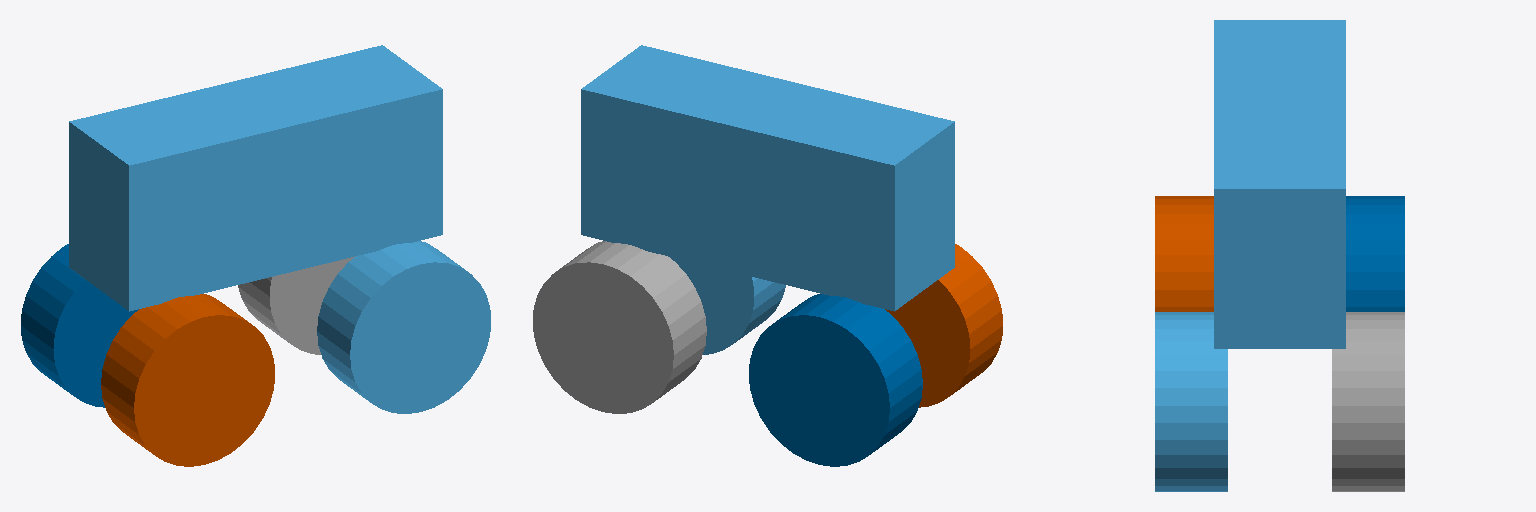
The robot description file, URDF, robot "agricobiot2":
<?xml version="1.0"?>
<!--
  Example URDF of the "agricobiot2" MVSim robot (class "ackermann_drivetrain"),
  as it could be used for Gazebo or real hardware: its <ros2_control> block
  names another hardware plugin, but MVSim binds its joints to the simulated
  ones by name. The robot actuators are the drivetrain ("traction_joint", at
  the rear axle center) and the steering rack ("steer_joint", the equivalent
  steering angle, at the front axle center), as in a bicycle model.
  Used by demo_ros2_control.launch.py with vehicle:=agricobiot2 robot_description:=urdf
-->
<robot name="agricobiot2">
  <link name="base_link"/>
  <link name="chassis_link">
    <visual><geometry><box size="0.9 0.3 0.4"/></geometry></visual>
  </link>
  <joint name="chassis_joint" type="fixed">
    <parent link="base_link"/><child link="chassis_link"/>
    <origin xyz="0.31 0 0.6" rpy="0 0 0"/>
  </joint>

  <!-- Bicycle model actuators -->
  <link name="traction"/>
  <joint name="traction_joint" type="continuous">
    <parent link="base_link"/><child link="traction"/>
    <origin xyz="0 0 0.203" rpy="0 0 0"/>
    <axis xyz="0 1 0"/>
  </joint>
  <link name="steer"/>
  <joint name="steer_joint" type="revolute">
    <parent link="base_link"/><child link="steer"/>
    <origin xyz="0.62 0 0.203" rpy="0 0 0"/>
    <axis xyz="0 0 1"/>
    <limit lower="-0.6109" upper="0.6109" effort="1000" velocity="1.5708"/>
  </joint>

  <!-- Wheels -->
  <link name="rl_wheel">
    <visual><origin rpy="1.5708 0 0"/><geometry><cylinder radius="0.203" length="0.164"/></geometry></visual>
  </link>
  <joint name="rl_wheel_joint" type="continuous">
    <parent link="base_link"/><child link="rl_wheel"/>
    <origin xyz="0 0.2 0.203" rpy="0 0 0"/>
    <axis xyz="0 1 0"/>
  </joint>
  <link name="rr_wheel">
    <visual><origin rpy="1.5708 0 0"/><geometry><cylinder radius="0.203" length="0.164"/></geometry></visual>
  </link>
  <joint name="rr_wheel_joint" type="continuous">
    <parent link="base_link"/><child link="rr_wheel"/>
    <origin xyz="0 -0.2 0.203" rpy="0 0 0"/>
    <axis xyz="0 1 0"/>
  </joint>
  <link name="fl_steer"/>
  <joint name="fl_steer_joint" type="revolute">
    <parent link="base_link"/><child link="fl_steer"/>
    <origin xyz="0.62 0.2 0.203" rpy="0 0 0"/>
    <axis xyz="0 0 1"/>
    <limit lower="-0.5190" upper="0.7354" effort="1000" velocity="1.5708"/>
  </joint>
  <link name="fl_wheel">
    <visual><origin rpy="1.5708 0 0"/><geometry><cylinder radius="0.203" length="0.164"/></geometry></visual>
  </link>
  <joint name="fl_wheel_joint" type="continuous">
    <parent link="fl_steer"/><child link="fl_wheel"/>
    <axis xyz="0 1 0"/>
  </joint>
  <link name="fr_steer"/>
  <joint name="fr_steer_joint" type="revolute">
    <parent link="base_link"/><child link="fr_steer"/>
    <origin xyz="0.62 -0.2 0.203" rpy="0 0 0"/>
    <axis xyz="0 0 1"/>
    <limit lower="-0.7354" upper="0.5190" effort="1000" velocity="1.5708"/>
  </joint>
  <link name="fr_wheel">
    <visual><origin rpy="1.5708 0 0"/><geometry><cylinder radius="0.203" length="0.164"/></geometry></visual>
  </link>
  <joint name="fr_wheel_joint" type="continuous">
    <parent link="fr_steer"/><child link="fr_wheel"/>
    <axis xyz="0 1 0"/>
  </joint>

  <link name="laser1"/>
  <joint name="laser1_joint" type="fixed">
    <parent link="base_link"/><child link="laser1"/>
    <origin xyz="0.8 0 0.4" rpy="0 0 0"/>
  </joint>

  <ros2_control name="GazeboSimSystem" type="system">
    <hardware>
      <plugin>gz_ros2_control/GazeboSimSystem</plugin>
    </hardware>
    <joint name="traction_joint">
      <command_interface name="velocity"/>
      <state_interface name="position"/>
      <state_interface name="velocity"/>
    </joint>
    <joint name="steer_joint">
      <command_interface name="position"/>
      <state_interface name="position"/>
    </joint>
    <!-- The wheels: state only, for joint_state_broadcaster -->
    <joint name="rl_wheel_joint"><state_interface name="position"/></joint>
    <joint name="rr_wheel_joint"><state_interface name="position"/></joint>
    <joint name="fl_wheel_joint"><state_interface name="position"/></joint>
    <joint name="fr_wheel_joint"><state_interface name="position"/></joint>
    <joint name="fl_steer_joint"><state_interface name="position"/></joint>
    <joint name="fr_steer_joint"><state_interface name="position"/></joint>
  </ros2_control>
</robot>

--- What the picture shows (computed from the rendered views, not written in the file) ---
The picture shows the robot from 3 angles, left to right: view 1: azimuth 30°, elevation 25°; view 2: azimuth 150°, elevation 25°; view 3: azimuth 270°, elevation 25°; orthographic projection.
Robot: agricobiot2 — 11 links, 10 joints (3 revolute, 5 continuous, 2 fixed); root link base_link; default pose: all joints at 0.
Links seen in each view (by area): view 1: chassis_link, rr_wheel, fr_wheel, rl_wheel, fl_wheel; view 2: chassis_link, rl_wheel, fl_wheel, rr_wheel, fr_wheel; view 3: chassis_link, fl_wheel, fr_wheel, rl_wheel, rr_wheel.
Link boxes in pixels (x1,y1,x2,y2): chassis_link: (69, 45, 442, 311); rr_wheel: (101, 294, 274, 466); fr_wheel: (317, 241, 490, 413); rl_wheel: (21, 244, 138, 407); fl_wheel: (238, 256, 355, 354); chassis_link: (581, 45, 954, 311); rl_wheel: (749, 294, 922, 466); fl_wheel: (533, 241, 706, 413); rr_wheel: (885, 244, 1002, 407); fr_wheel: (668, 256, 785, 354); chassis_link: (1214, 20, 1345, 348); fl_wheel: (1332, 312, 1404, 491); fr_wheel: (1155, 312, 1227, 491); rl_wheel: (1346, 196, 1404, 311); rr_wheel: (1155, 196, 1213, 311).
Bounding box of the posed robot: 1.03 × 0.564 × 0.8 m (x, y, z).
Geometry: primitives only (box / cylinder / sphere), no mesh files.
